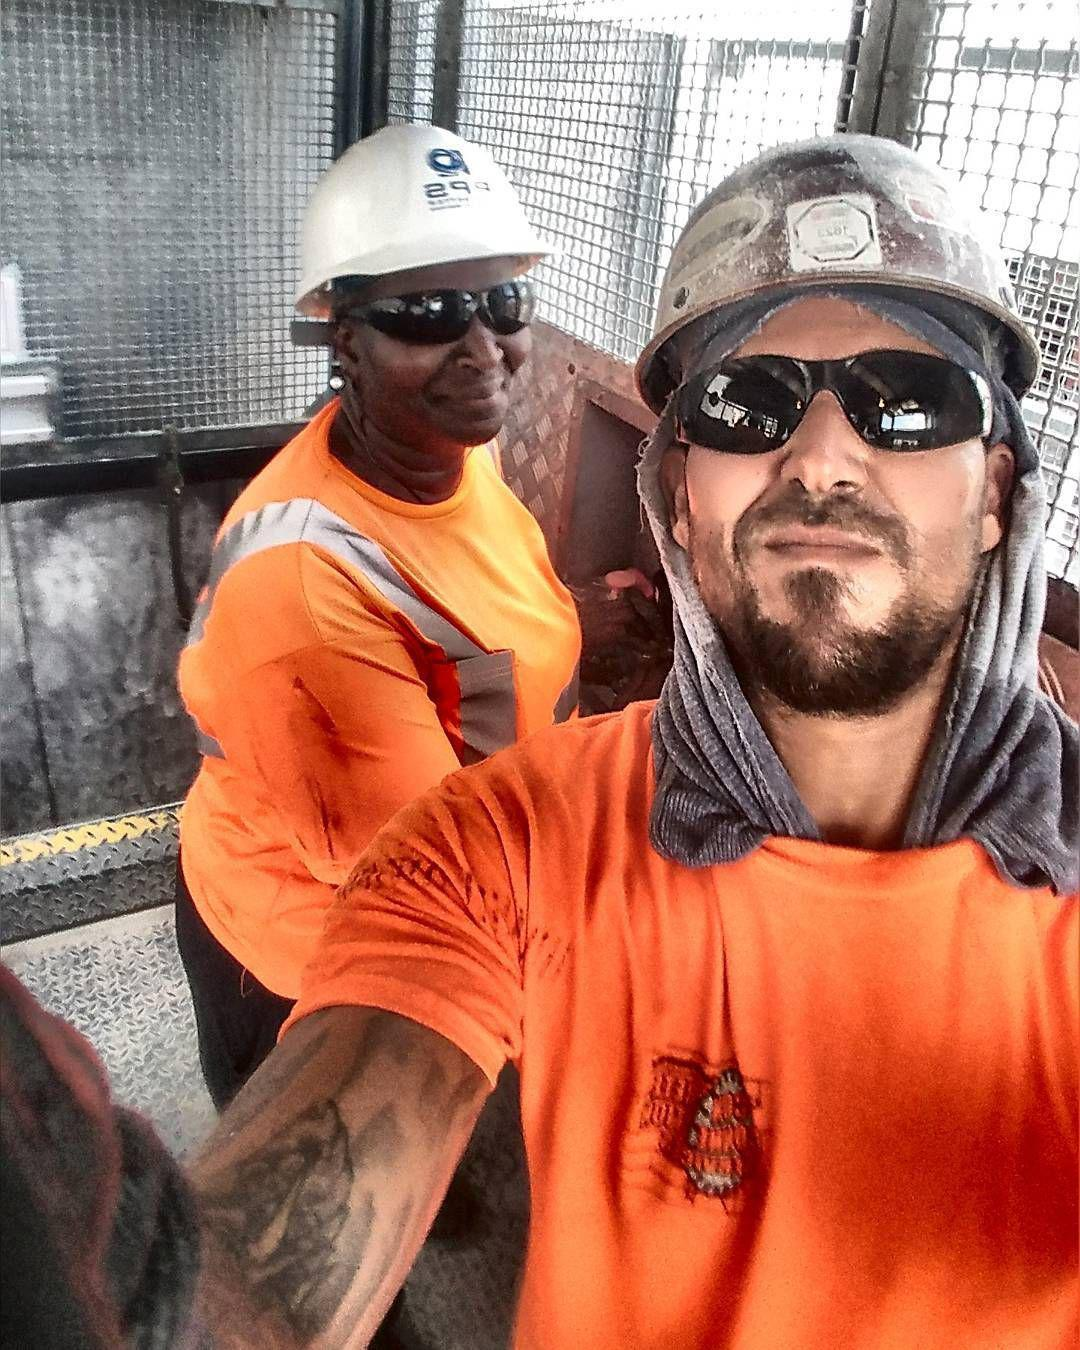helmet: (635, 134, 1043, 399), (289, 118, 557, 306)
